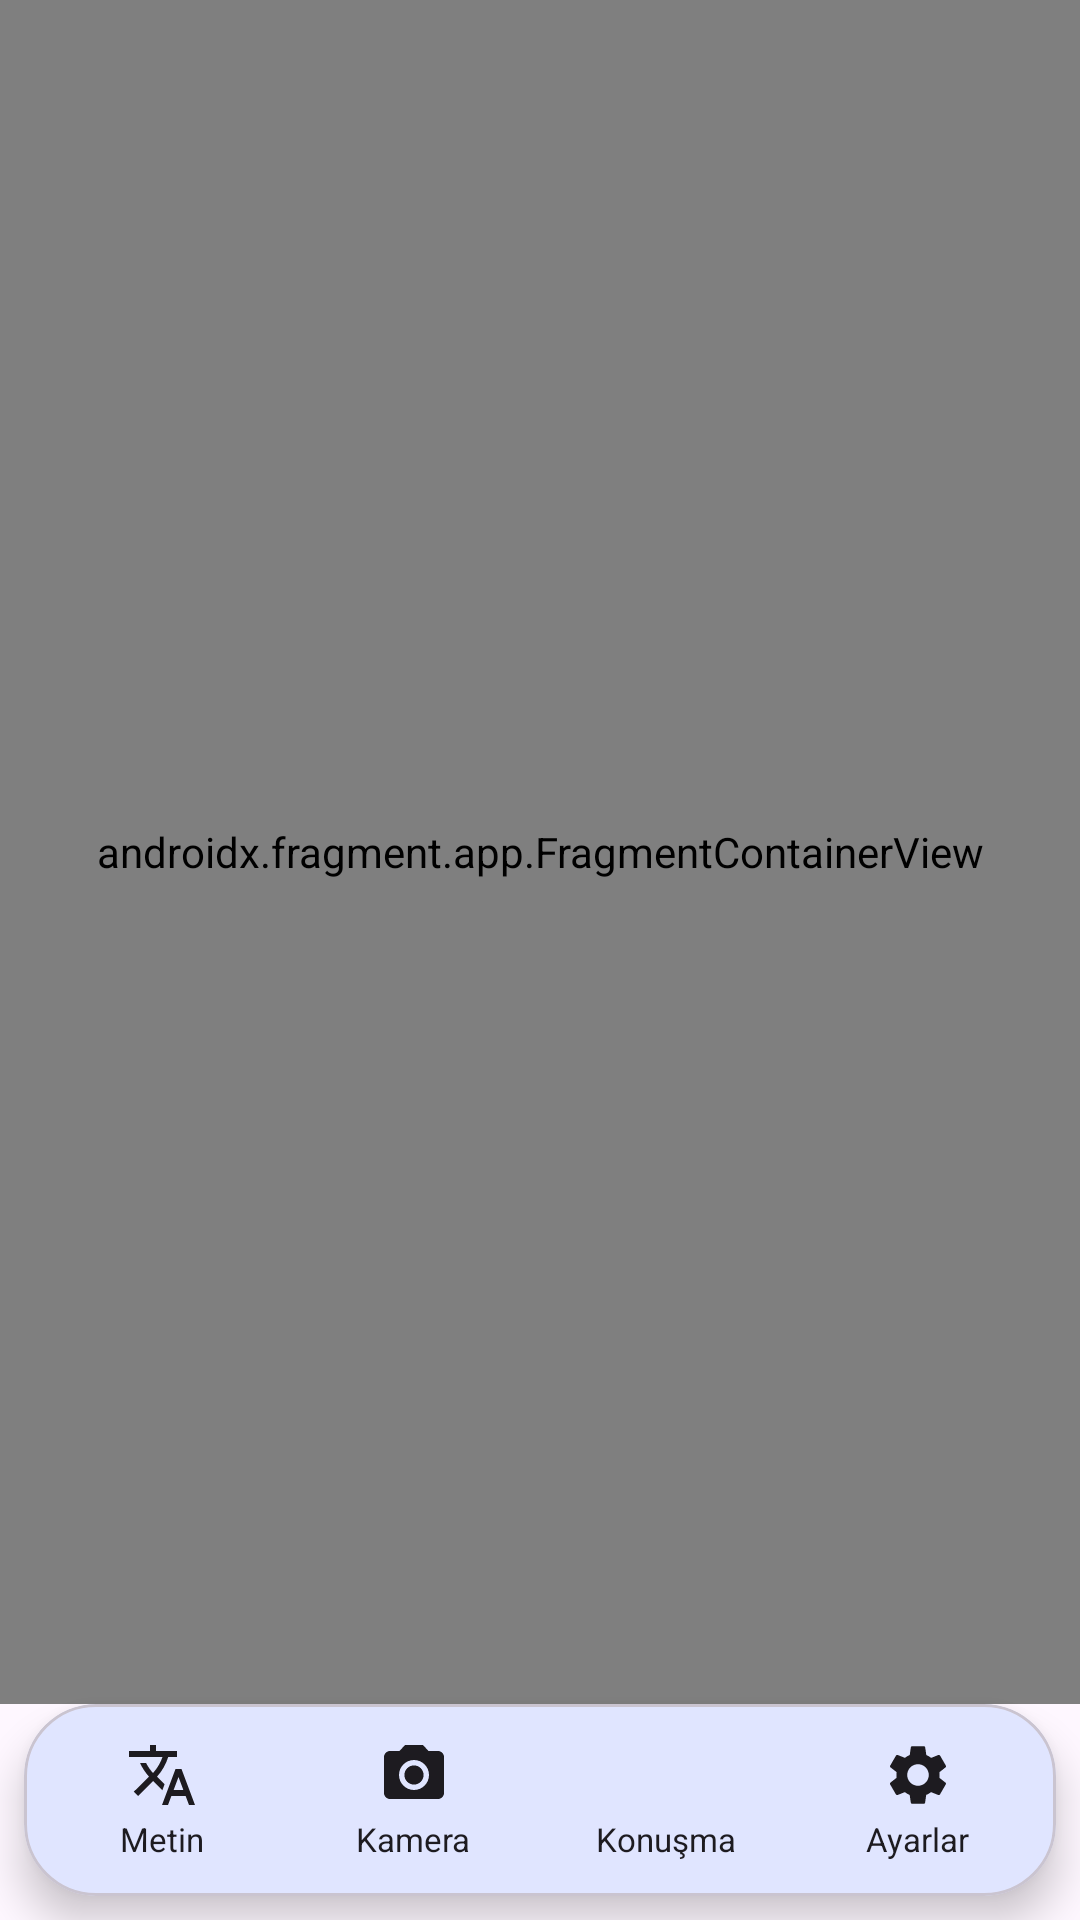

Icon click points for this 1080*1920 phone screenshot, format (x,y):
translate: (162,1775)
